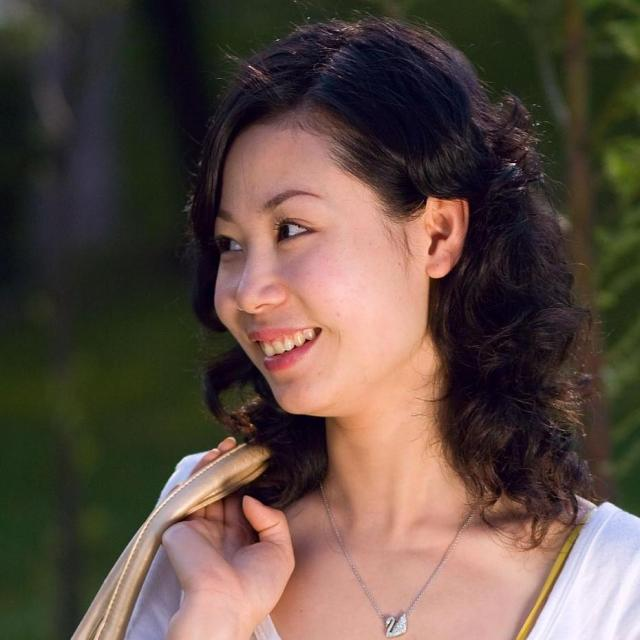no-glass: (213, 218, 324, 252)
